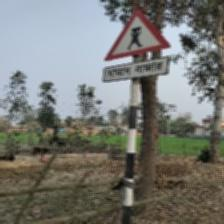Market-in-front: (101, 7, 172, 84)
